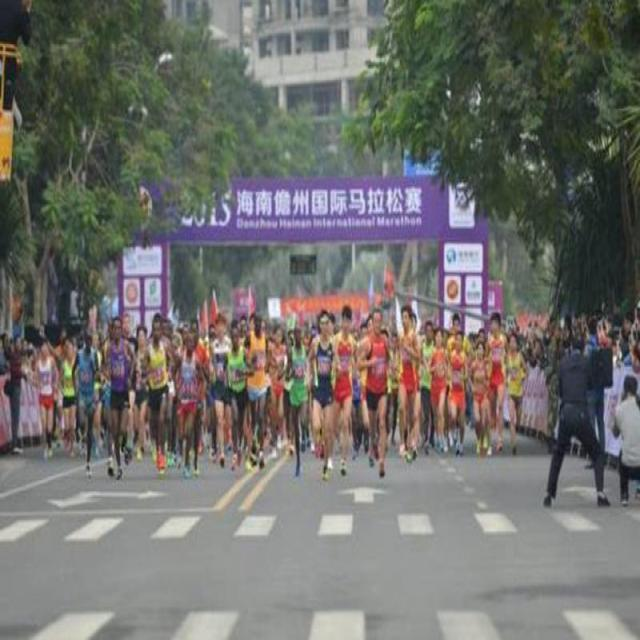non-fight: (355, 304, 398, 478), (305, 308, 342, 481), (103, 315, 136, 479)
